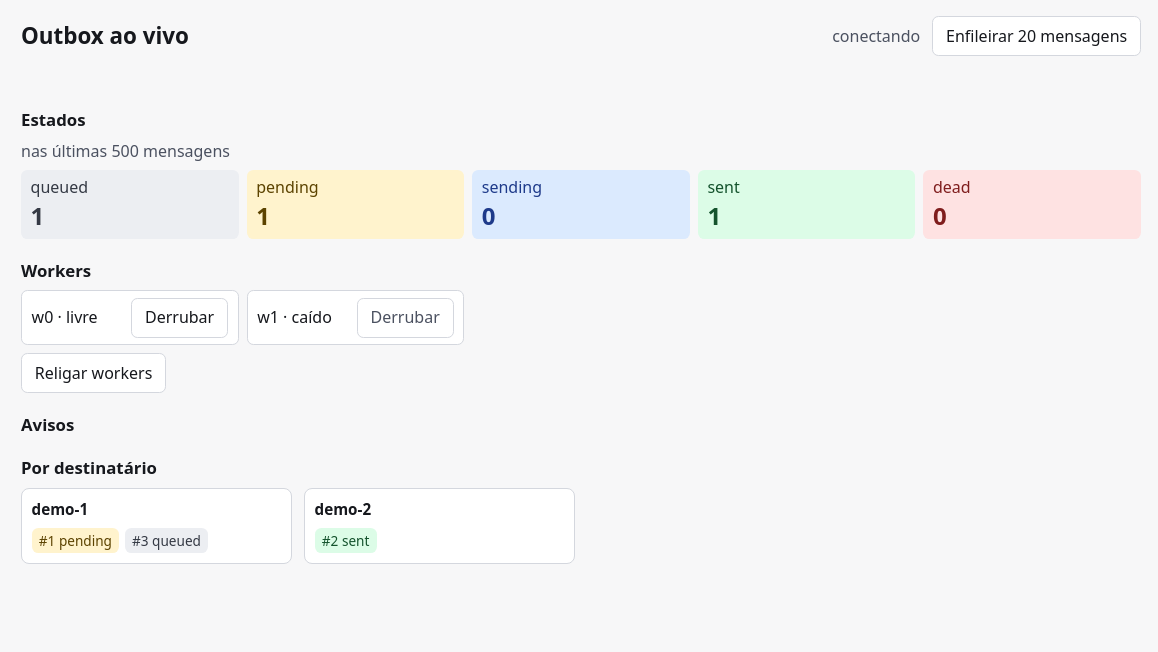
Test case: App › derruba e religa worker pelo admin da demo
Check: the list item with aria-label "worker 0" shows "livre", box [66, 306, 98, 328]
Check: the list item with aria-label "worker 1" shows "caído", box [292, 306, 332, 328]
Click the button with aria-label "Derrubar worker 0": (180, 318) [131, 298, 228, 338]
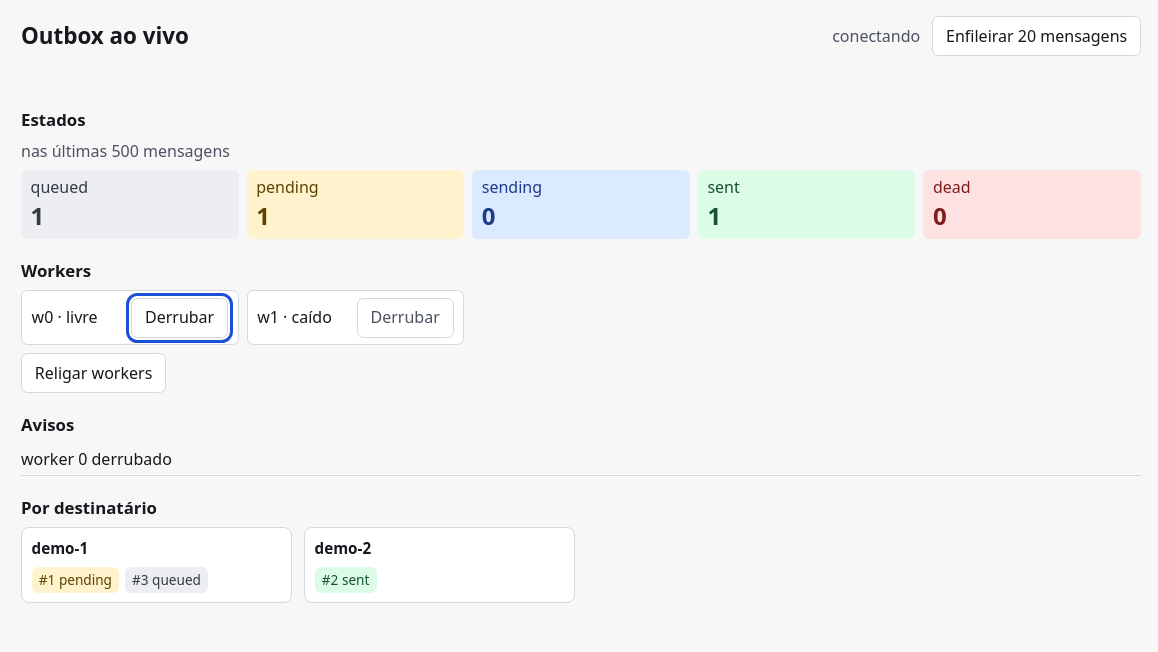
Check: the list "worker 0 derrubado" is shown, box [21, 444, 1141, 476]
Click the button "Religar workers": (94, 373) [21, 353, 166, 393]
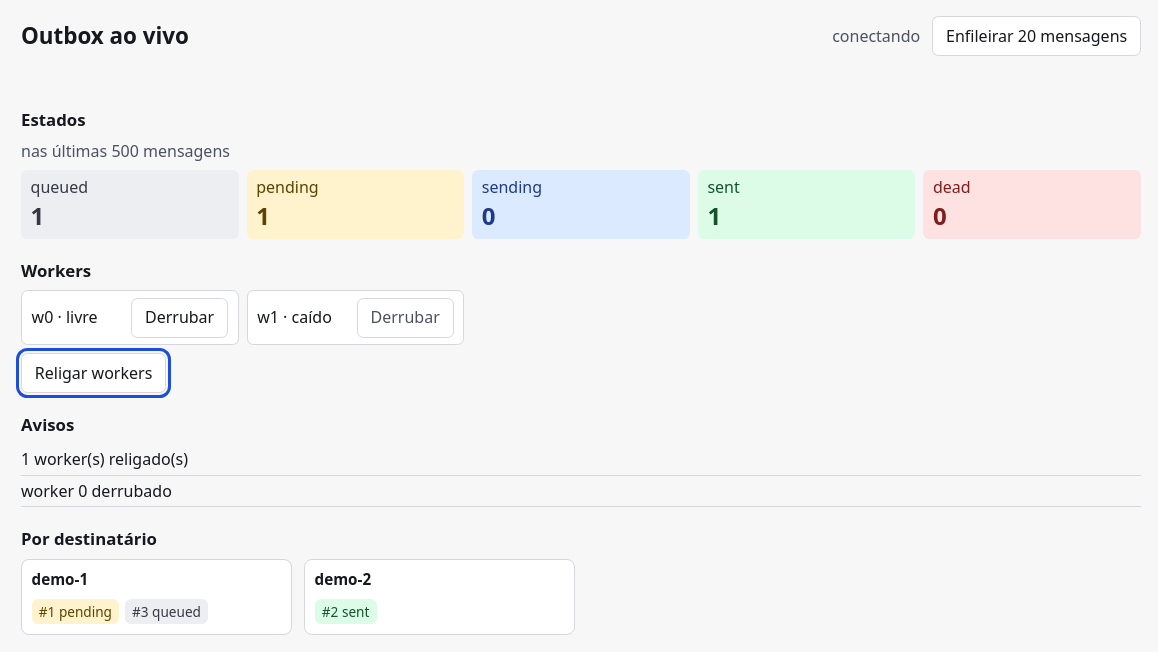
Check: the list "1 worker(s) religado(s) worker 0 derrubado" is shown, box [21, 444, 1141, 507]
